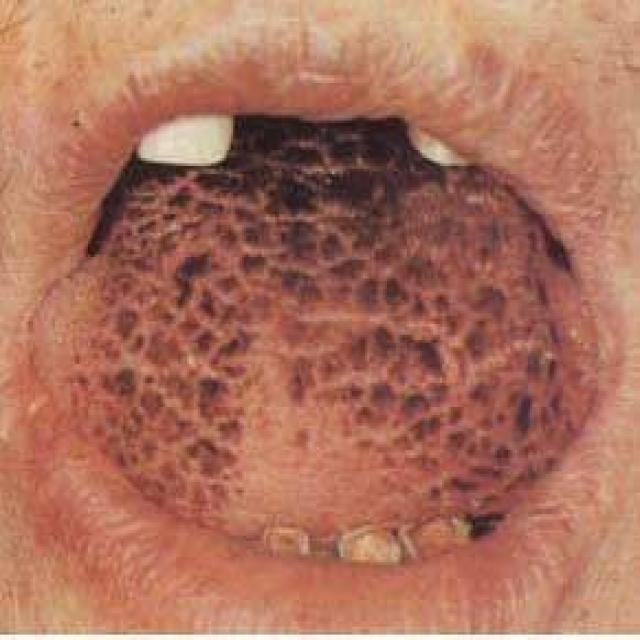tongue: (21, 170, 609, 532)
